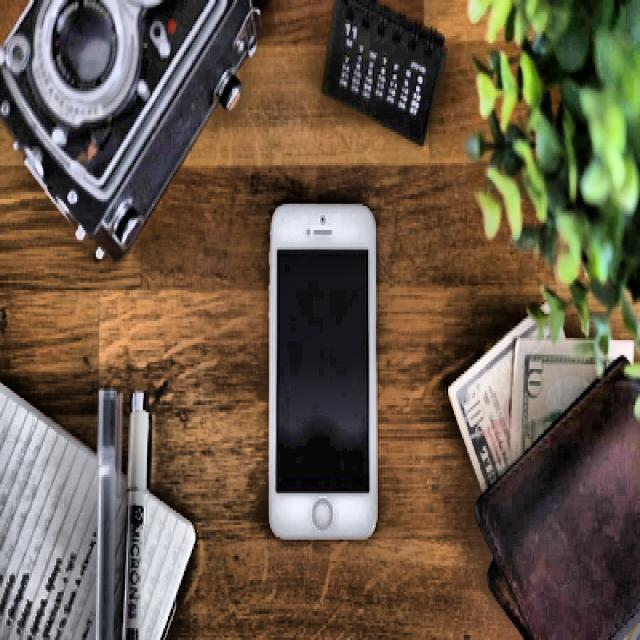Phone: (268, 198, 377, 536)
